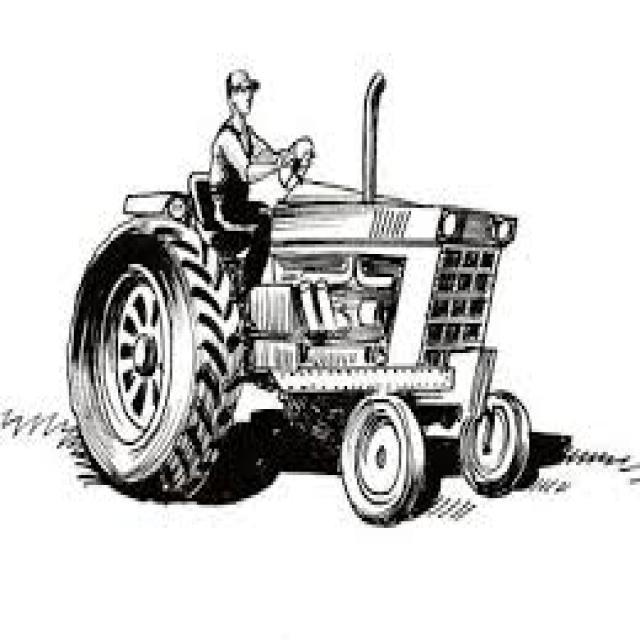Tratores - v5 YOLO V8L 2024-11-13: (39, 61, 542, 518)
